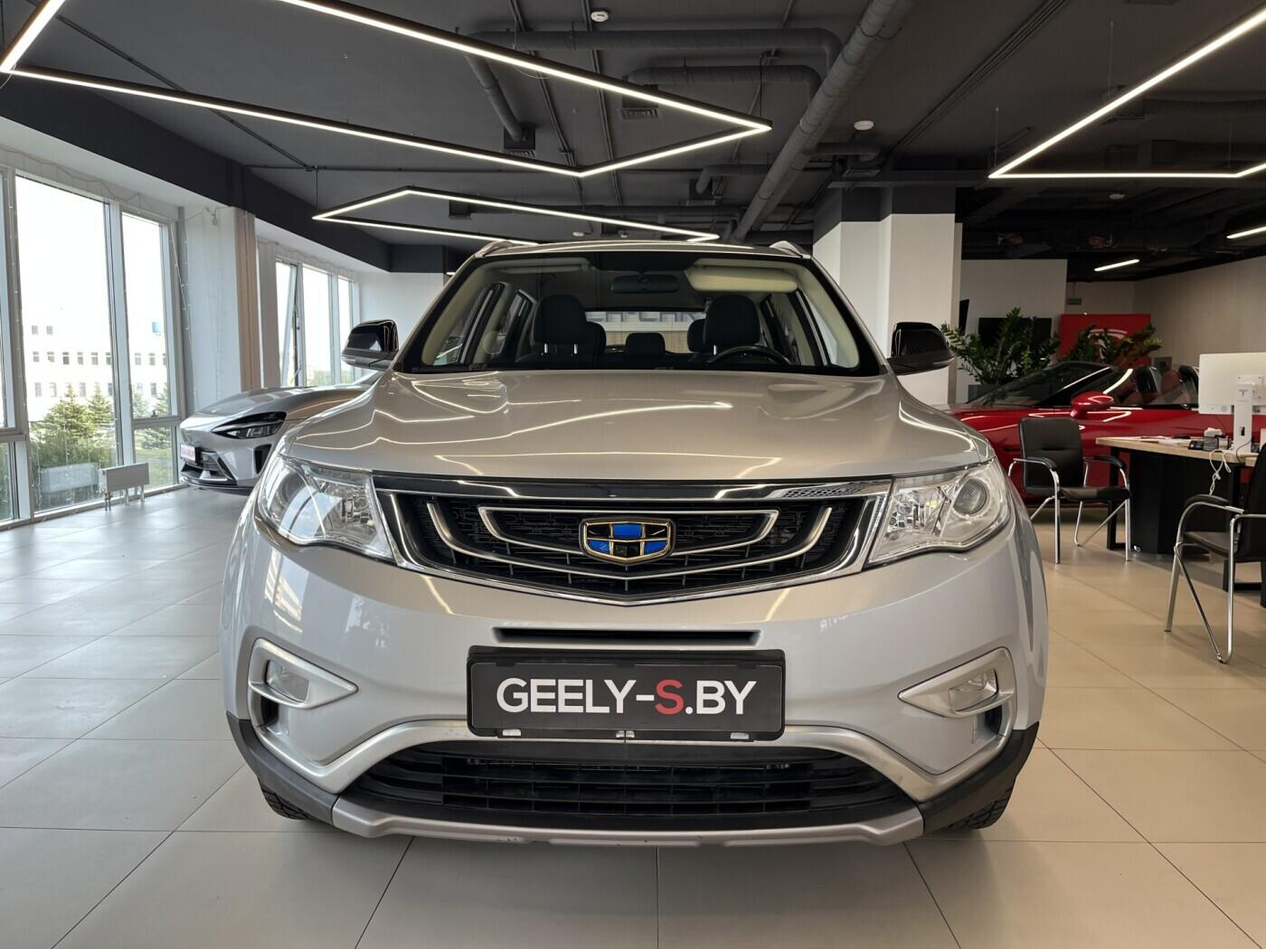Atlas_2016-2023: (223, 225, 1050, 857)
